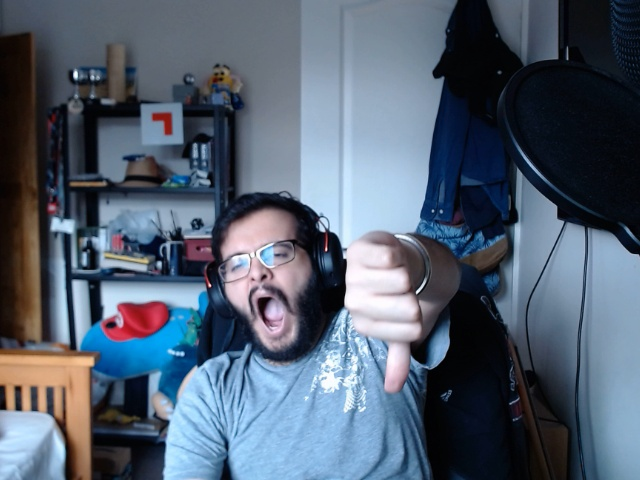Thumbs down: (336, 218, 428, 402)
